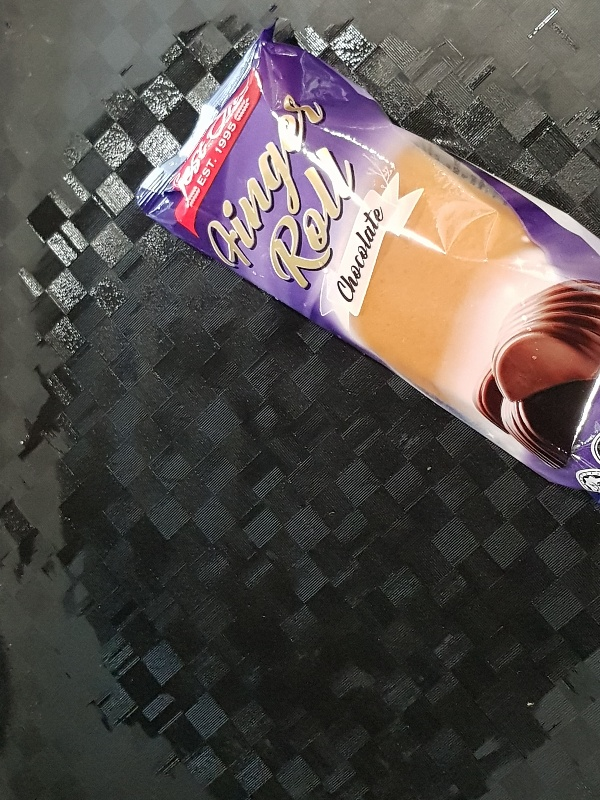Tinges Roll Chocolate: (133, 18, 600, 491)
